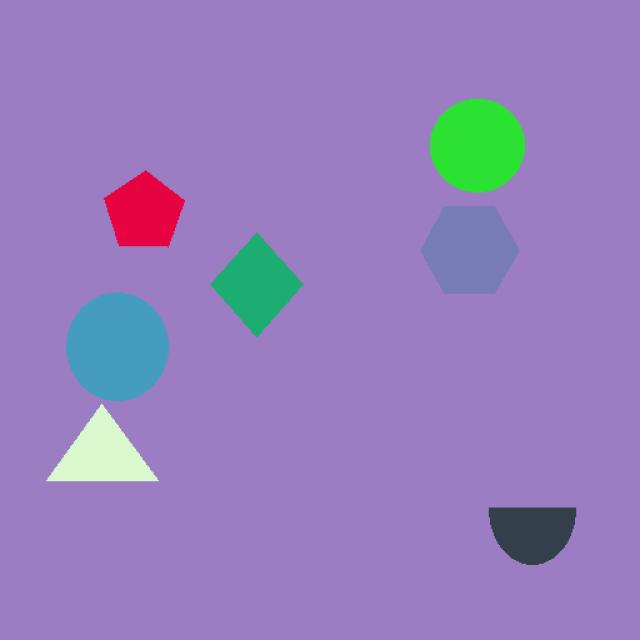Circle: (44, 285, 184, 408), (412, 90, 538, 192)
Hexagon: (398, 201, 556, 311)
Pentagon: (93, 160, 193, 257)
Semicircle: (470, 492, 604, 570)
Triangle: (28, 395, 172, 504)
square: (208, 229, 307, 340)
